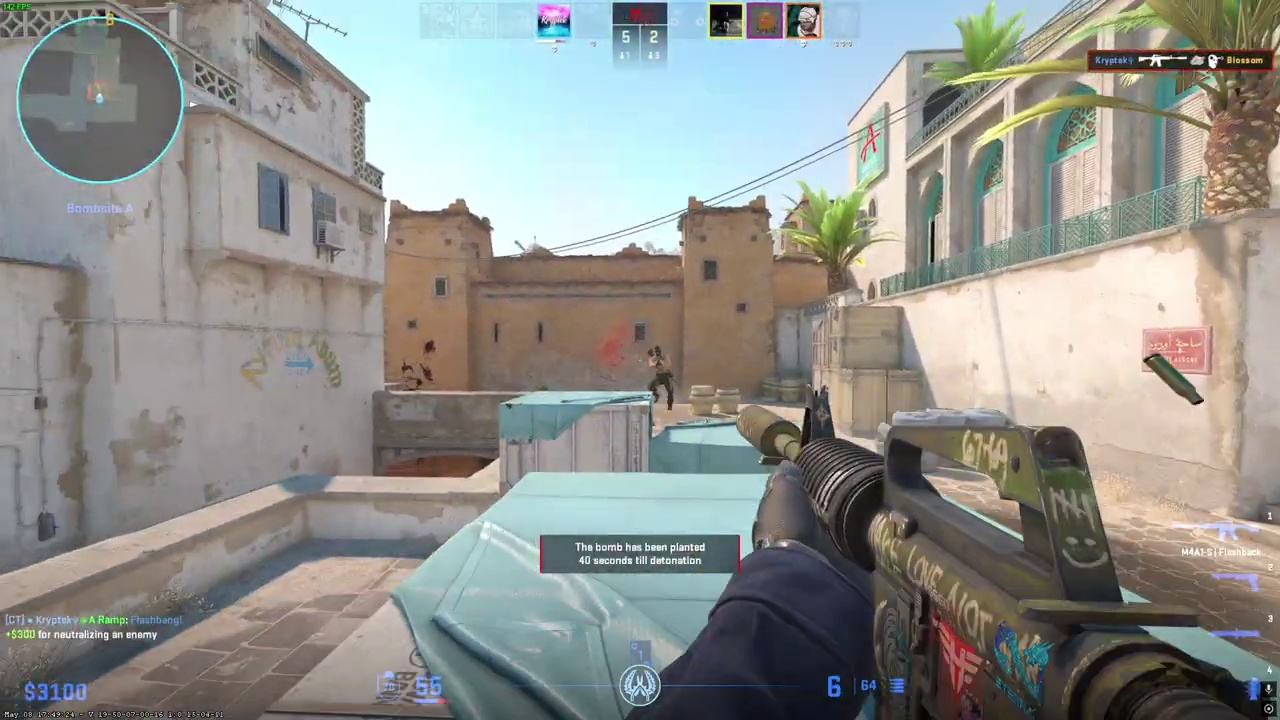Terrorist: (647, 345, 674, 410)
